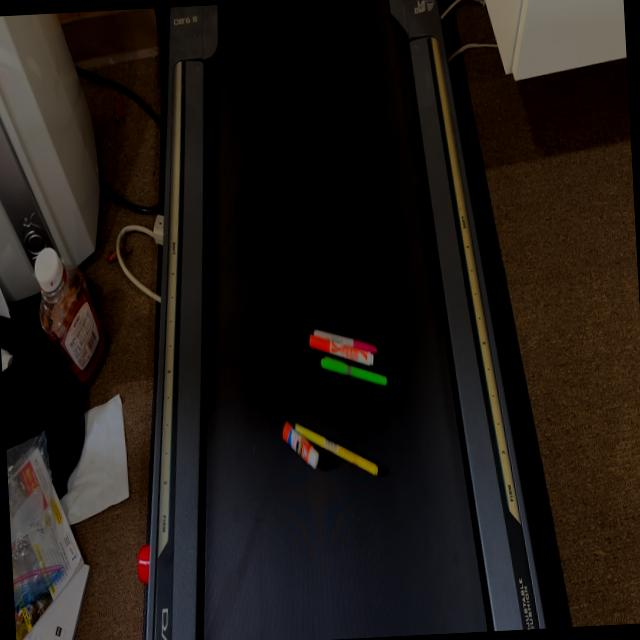Trash: (278, 403, 397, 498), (304, 310, 392, 394)
